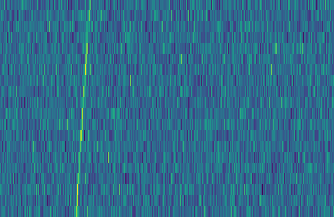signal: (69, 0, 92, 217)
